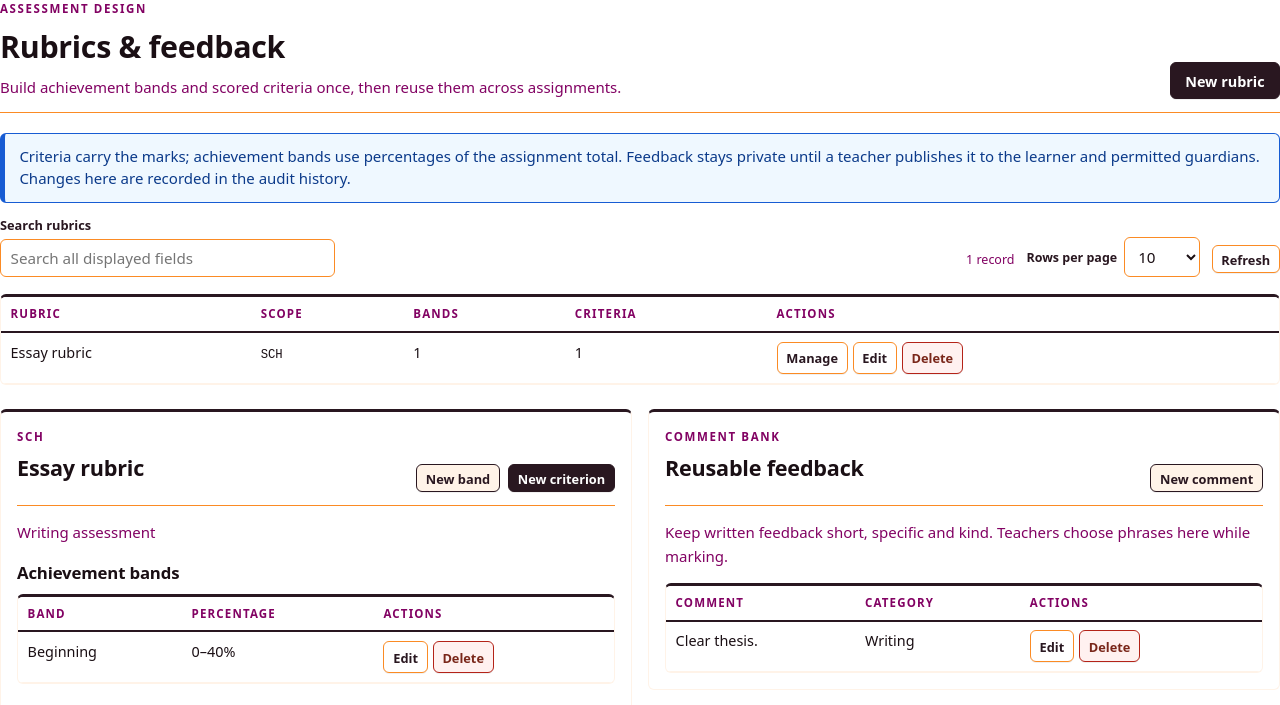
Test: rubric builder › rejects overlapping achievement bands before saving
Step 1. Click the button "New band" → [458, 478], box [416,464,500,492]
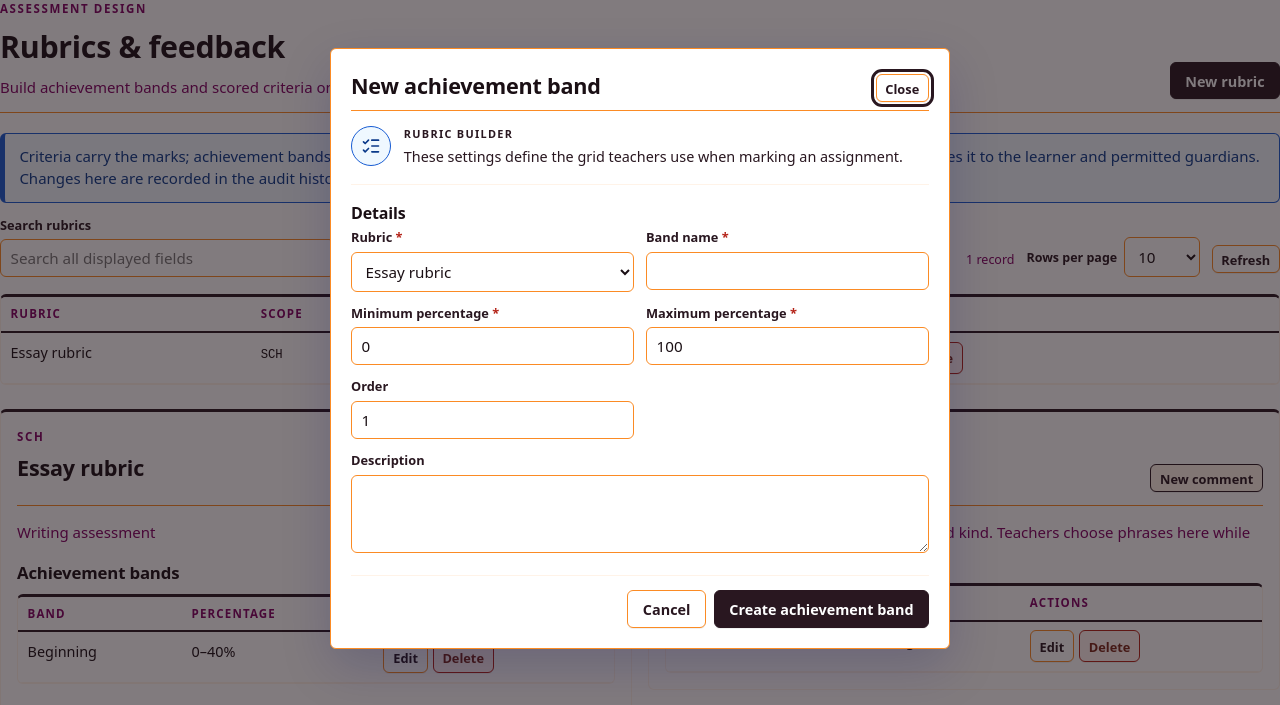
Step 2. Type "Wrong" into the field labelled "Band name" → [788, 271], box [646,252,929,290]
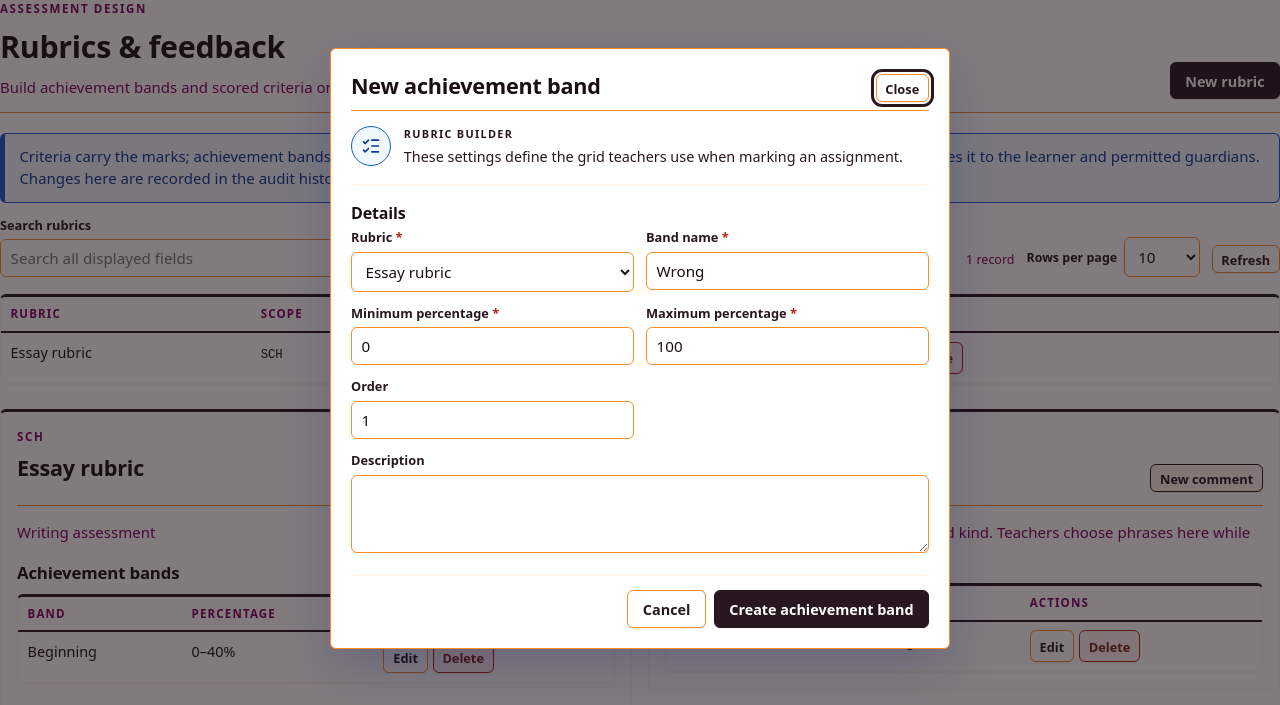
Step 3. Replace the text in the number field labelled "Minimum percentage" with "80" → [492, 346], box [351,327,634,365]
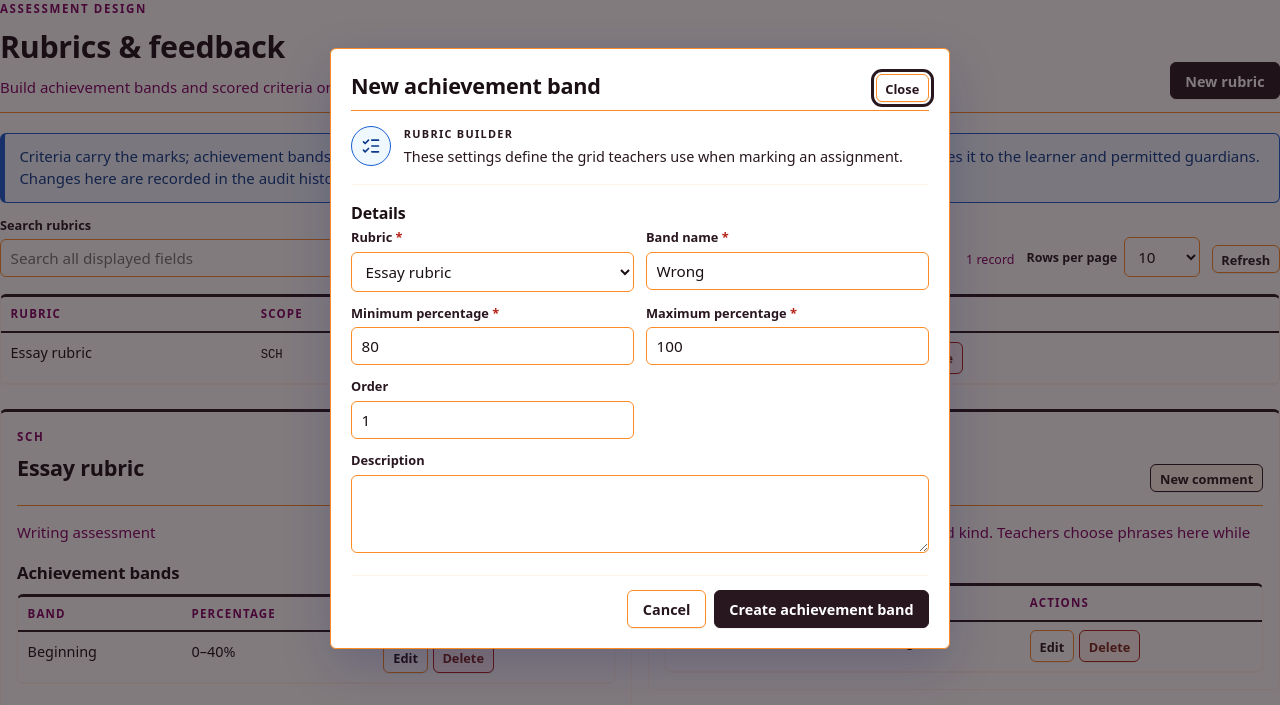
Step 4. Replace the text in the number field labelled "Maximum percentage" with "40" → [788, 346], box [646,327,929,365]
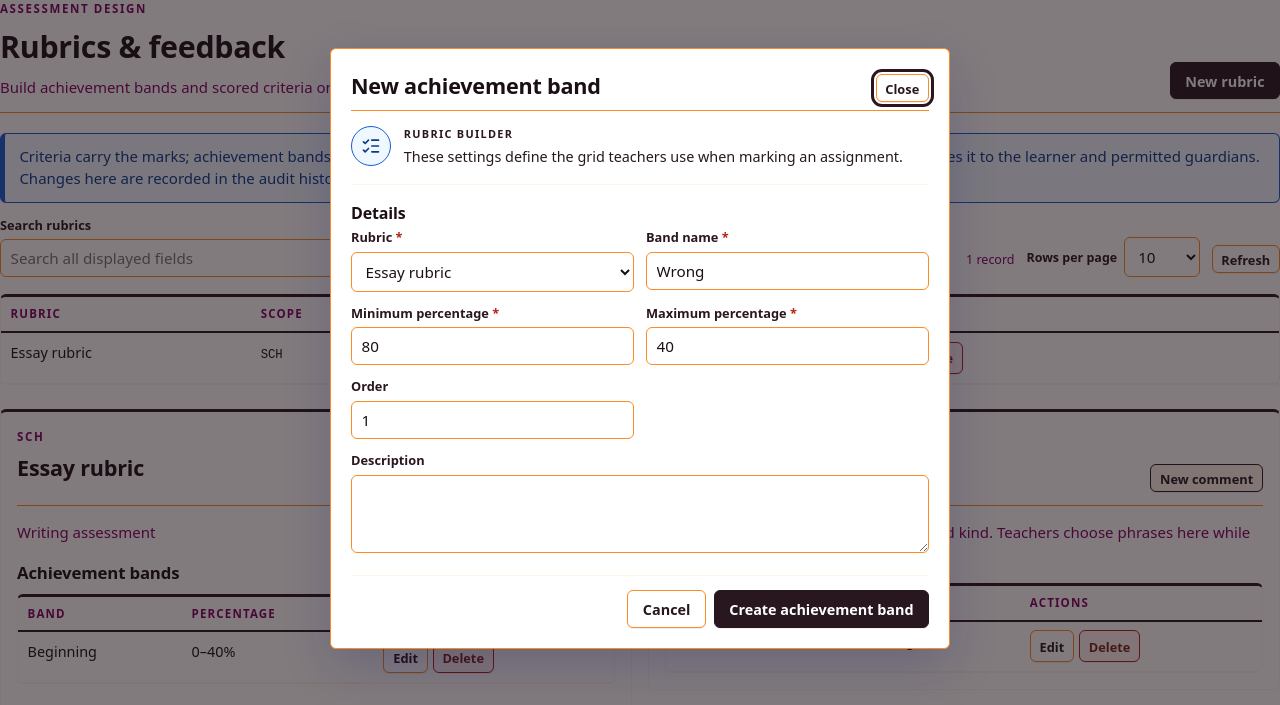
Step 5. Click the button "Create achievement band" → [821, 609], box [714,590,929,628]
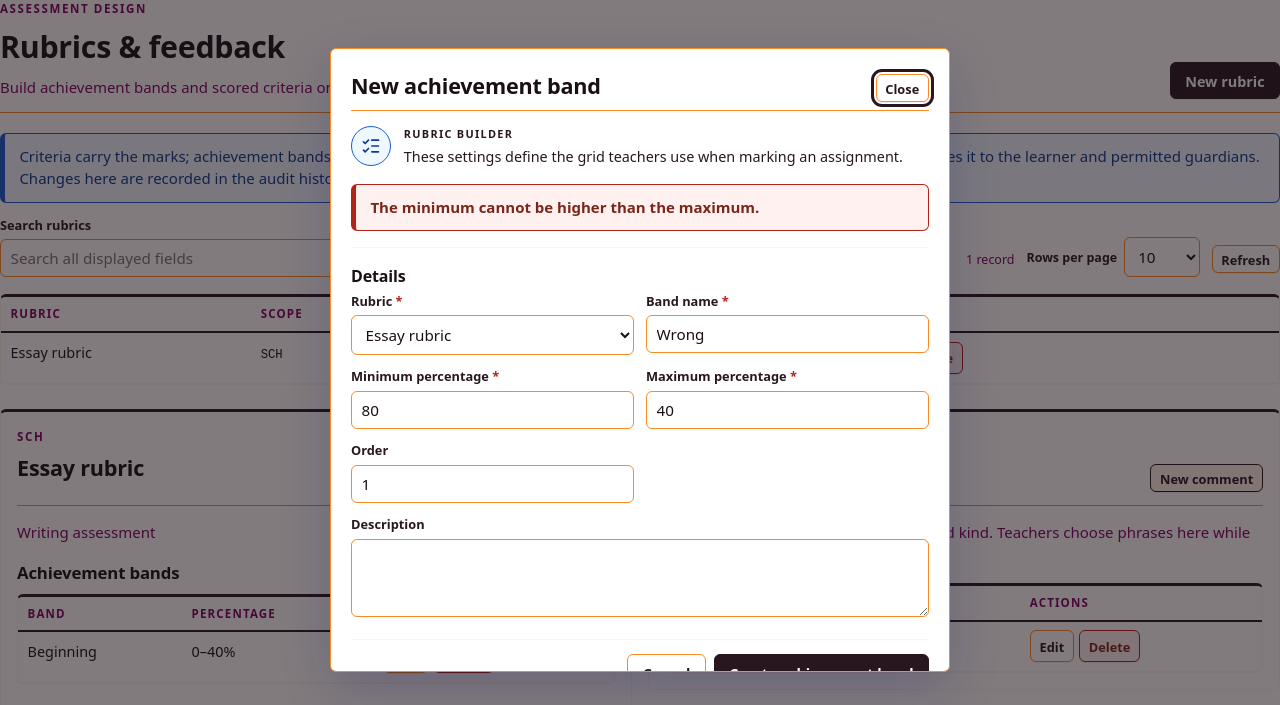
Now the message shows "minimum cannot be higher", box [370,197,759,217]
